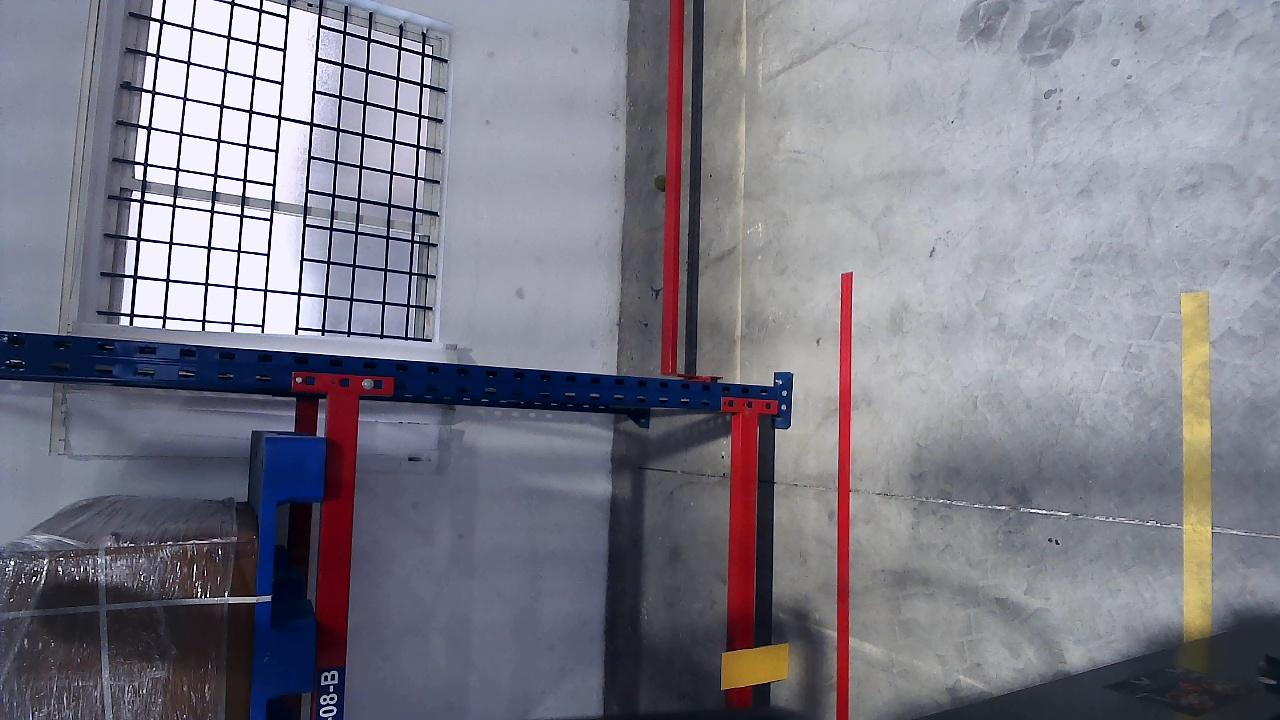h_rack: (309, 394, 363, 719), (728, 412, 762, 710)
orange_strip: (720, 642, 789, 689)
red_line: (834, 272, 854, 717)
small_pallet: (247, 437, 328, 719)
yellow_line: (1181, 298, 1214, 635)
